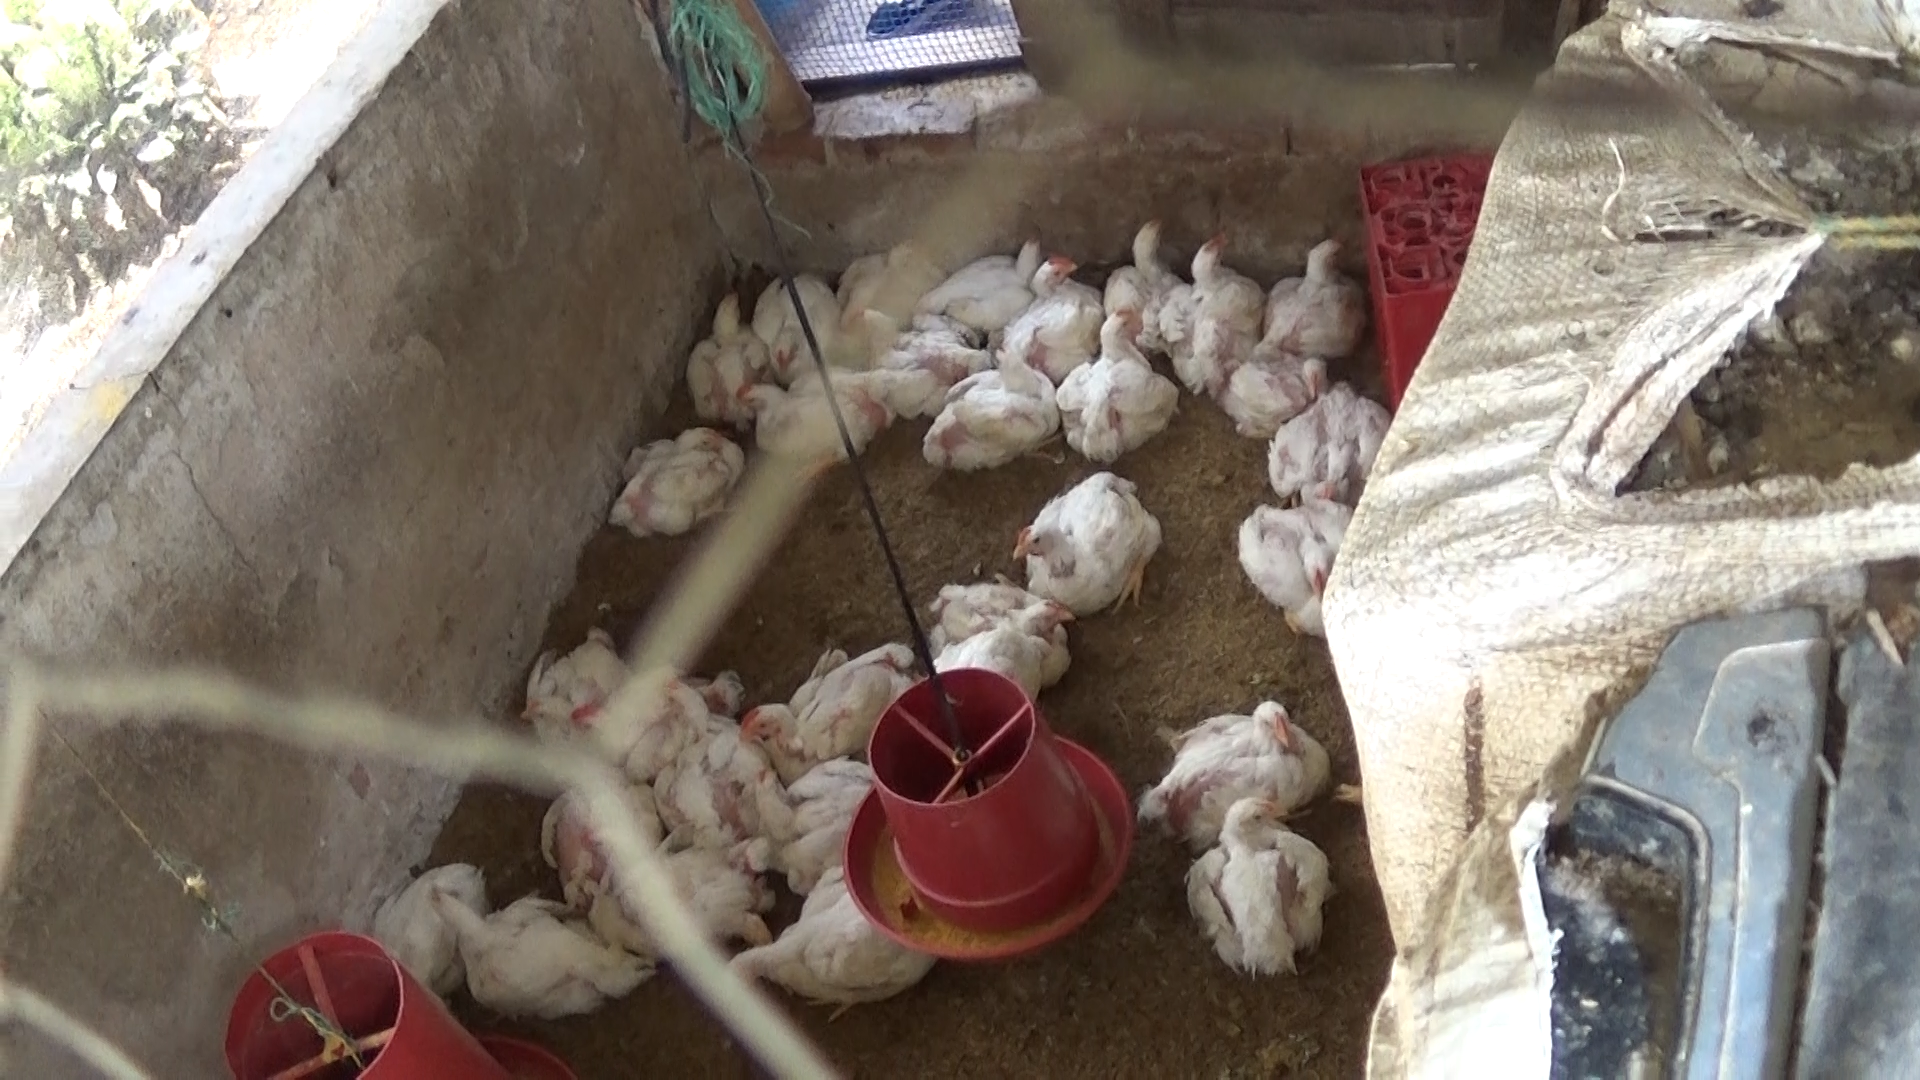Pollos: (711, 872, 924, 1029), (1174, 789, 1332, 982), (426, 884, 644, 1021), (1146, 698, 1341, 832), (632, 676, 760, 857), (1001, 468, 1160, 612), (911, 568, 1077, 692), (1044, 305, 1178, 459), (835, 301, 993, 425), (1155, 229, 1271, 397), (1222, 492, 1350, 642), (735, 766, 893, 884), (923, 342, 1068, 469), (371, 841, 496, 984), (1262, 375, 1395, 506), (742, 658, 915, 757), (599, 419, 737, 537), (738, 368, 886, 477), (501, 640, 634, 753), (1203, 328, 1323, 447), (1000, 251, 1102, 381), (1254, 229, 1369, 345), (920, 233, 1051, 332), (678, 287, 766, 425), (1083, 212, 1188, 320), (754, 264, 840, 386)
